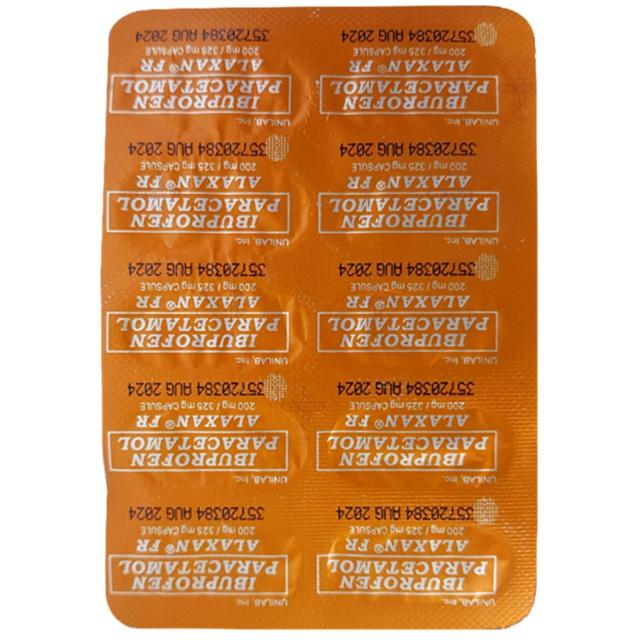blister: (100, 5, 539, 633)
